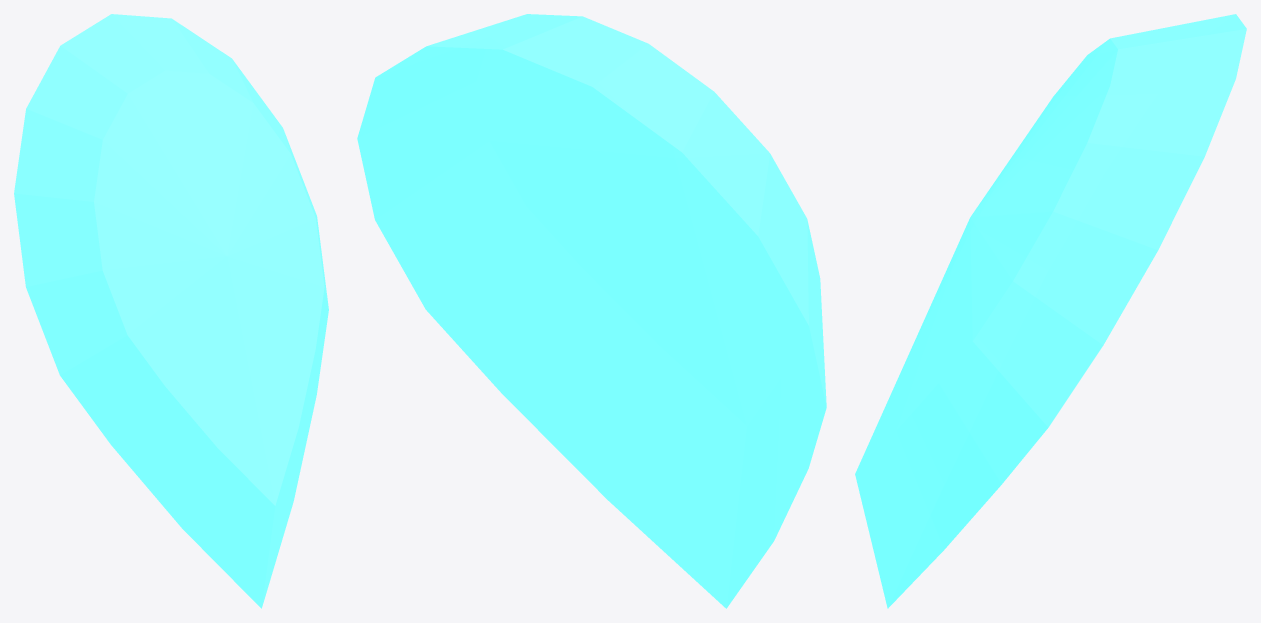
File: LaGOUTTE.fbx
3 renders of one model, left to right at view 1: azimuth 30°, elevation 25°; view 2: azimuth 150°, elevation 25°; view 3: azimuth 270°, elevation 25°, orthographic. The views are drawn at different scales.
Parts seen in each view (by area): view 1: GOUTTE; view 2: GOUTTE; view 3: GOUTTE.
Part boxes in pixels (x1,y1,x2,y2): GOUTTE: [14, 14, 328, 608]; GOUTTE: [357, 14, 826, 608]; GOUTTE: [855, 14, 1246, 608].
Bounding box in the file's own units: 1.68 × 2.68 × 1.64.
